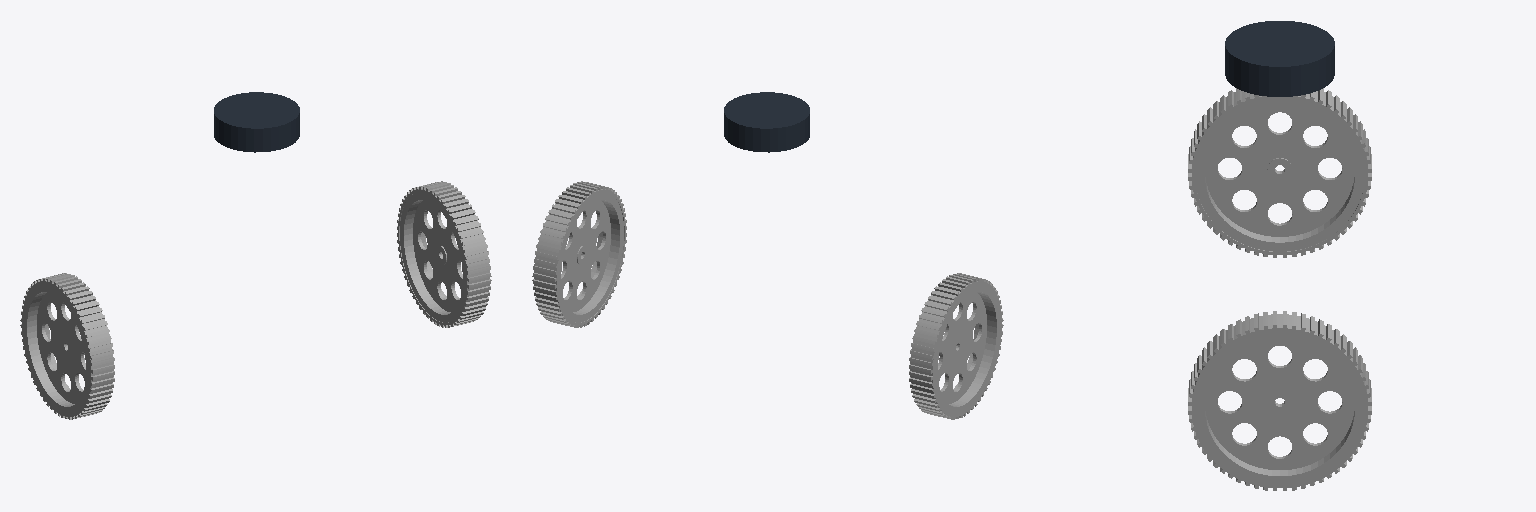
URDF robot description (tango):
<?xml version="1.0" encoding="utf-8"?>
<!-- =================================================================================== -->
<!-- |    This document was autogenerated by xacro from tango.xacro                    | -->
<!-- |    EDITING THIS FILE BY HAND IS NOT RECOMMENDED                                 | -->
<!-- =================================================================================== -->
<robot name="tango">
  <material name="silver">
    <color rgba="0.700 0.700 0.700 1.000"/>
  </material>
  <material name="black">
    <color rgba="0.0 0.0 0.0 1.0"/>
  </material>
  <material name="blue">
    <color rgba="0.203125 0.23828125 0.28515625 1.0"/>
  </material>
  <material name="green">
    <color rgba="0.0 0.8 0.0 1.0"/>
  </material>
  <material name="grey">
    <color rgba="0.2 0.2 0.2 1.0"/>
  </material>
  <material name="orange">
    <color rgba="1.0 0.423529411765 0.0392156862745 1.0"/>
  </material>
  <material name="brown">
    <color rgba="0.870588235294 0.811764705882 0.764705882353 1.0"/>
  </material>
  <material name="red">
    <color rgba="0.80078125 0.12890625 0.1328125 1.0"/>
  </material>
  <material name="white">
    <color rgba="1.0 1.0 1.0 1.0"/>
  </material>
  <transmission name="Rev15_tran">
    <type>transmission_interface/SimpleTransmission</type>
    <joint name="Rev15">
      <hardwareInterface>hardware_interface/EffortJointInterface</hardwareInterface>
    </joint>
    <actuator name="Rev15_actr">
      <hardwareInterface>hardware_interface/EffortJointInterface</hardwareInterface>
      <mechanicalReduction>1</mechanicalReduction>
    </actuator>
  </transmission>
  <transmission name="Rev16_tran">
    <type>transmission_interface/SimpleTransmission</type>
    <joint name="Rev16">
      <hardwareInterface>hardware_interface/EffortJointInterface</hardwareInterface>
    </joint>
    <actuator name="Rev16_actr">
      <hardwareInterface>hardware_interface/EffortJointInterface</hardwareInterface>
      <mechanicalReduction>1</mechanicalReduction>
    </actuator>
  </transmission>
  <gazebo>
    <plugin filename="libgazebo_ros_control.so" name="control"/>
  </gazebo>
  <gazebo>
    <plugin filename="libgazebo_ros_diff_drive.so" name="differential_drive_controller">
      <legacyMode>false</legacyMode>
      <alwaysOn>true</alwaysOn>
      <updateRate>20</updateRate>
      <leftJoint>Rev15</leftJoint>
      <rightJoint>Rev16</rightJoint>
      <wheelSeparation>0.325</wheelSeparation>
      <wheelDiameter>0.110</wheelDiameter>
      <wheelAcceleration>1.0</wheelAcceleration>
      <torque>0.127</torque>
      <commandTopic>cmd_vel</commandTopic>
      <odometryTopic>odom</odometryTopic>
      <odometryFrame>odom</odometryFrame>
      <robotBaseFrame>base_link</robotBaseFrame>
      <odometrySource>0</odometrySource>
      <publishWheelJointState>true</publishWheelJointState>
    </plugin>
  </gazebo>
  <!-- RpLidar A2 using CPU -->
  <gazebo reference="sensor_laser">
    <sensor name="head_rplidar_sensor" type="ray">
      <pose>0 0 0.06 0 0 0</pose>
      <visualize>false</visualize>
      <update_rate>40</update_rate>
      <ray>
        <scan>
          <horizontal>
            <samples>720</samples>
            <resolution>1</resolution>
            <min_angle>-3.14159265</min_angle>
            <max_angle>3.14159265</max_angle>
          </horizontal>
        </scan>
        <range>
          <min>0.2</min>
          <max>12.0</max>
          <resolution>0.01</resolution>
        </range>
        <noise>
          <type>gaussian</type>
          <mean>0.0</mean>
          <stddev>0.01</stddev>
        </noise>
      </ray>
      <plugin filename="libgazebo_ros_laser.so" name="gazebo_ros_head_rplidar_controller">
        <topicName>/tango/laser/scan</topicName>
        <frameName>sensor_laser</frameName>
      </plugin>
    </sensor>
  </gazebo>
  <gazebo reference="base_link">
    <material>Gazebo/Silver</material>
    <mu1>0.2</mu1>
    <mu2>0.2</mu2>
    <selfCollide>true</selfCollide>
    <gravity>true</gravity>
  </gazebo>
  <gazebo reference="wheel_left_1">
    <material>Gazebo/Silver</material>
    <mu1>0.2</mu1>
    <mu2>0.2</mu2>
    <selfCollide>true</selfCollide>
  </gazebo>
  <gazebo reference="wheel_right_1">
    <material>Gazebo/Silver</material>
    <mu1>0.2</mu1>
    <mu2>0.2</mu2>
    <selfCollide>true</selfCollide>
  </gazebo>
  <link name="dummy_link"/>
  <link name="base_link">
    <inertial>
      <origin rpy="0 0 0" xyz="0.00016953576698395381 -0.003784058871619607 0.04856680225483841"/>
      <mass value="0.9483275242628453"/>
      <inertia ixx="0.010174" ixy="-0.000103" ixz="-4.4e-05" iyy="0.009278" iyz="0.000222" izz="0.015459"/>
    </inertial>
    <visual>
      <origin rpy="0 0 0" xyz="0 0 0"/>
      <geometry>
        <mesh filename="package://tango_description/meshes/base_link.stl" scale="0.001 0.001 0.001"/>
      </geometry>
      <material name="silver"/>
    </visual>
    <collision>
      <origin rpy="0 0 0" xyz="0 0 0"/>
      <geometry>
        <mesh filename="package://tango_description/meshes/base_link.stl" scale="0.001 0.001 0.001"/>
      </geometry>
    </collision>
  </link>
  <link name="sensor_laser">
    <inertial>
      <origin rpy="0 0 0" xyz="0 0 0"/>
      <mass value="1"/>
      <inertia ixx="0.000305583333333" ixy="0" ixz="0" iyy="0.000305583333333" iyz="0" izz="0.0005445"/>
    </inertial>
    <visual>
      <origin rpy="0 0 0" xyz="0 0 0"/>
      <geometry>
        <cylinder length="0.02" radius="0.033"/>
      </geometry>
      <material name="blue"/>
    </visual>
    <collision>
      <origin rpy="0 0 0" xyz="0 0 0"/>
      <geometry>
        <cylinder length="0.02" radius="0.033"/>
      </geometry>
    </collision>
  </link>
  <link name="wheel_left_1">
    <inertial>
      <origin rpy="0 0 0" xyz="-0.16628589477289957 5.602462880330887e-14 -7.487718159456705e-16"/>
      <mass value="0.5462470782161397"/>
      <inertia ixx="0.001184" ixy="-0.0" ixz="0.0" iyy="0.000606" iyz="-0.0" izz="0.000606"/>
    </inertial>
    <visual>
      <origin rpy="0 0 0" xyz="-0.0 -0.0 0.0"/>
      <geometry>
        <mesh filename="package://tango_description/meshes/wheel_left_1.stl" scale="0.001 0.001 0.001"/>
      </geometry>
      <material name="silver"/>
    </visual>
    <collision>
      <origin rpy="0 0 0" xyz="-0.0 -0.0 0.0"/>
      <geometry>
        <mesh filename="package://tango_description/meshes/wheel_left_1.stl" scale="0.001 0.001 0.001"/>
      </geometry>
    </collision>
  </link>
  <link name="wheel_right_1">
    <inertial>
      <origin rpy="0 0 0" xyz="0.16473964498315097 1.3460578998617458e-14 5.271833050320694e-16"/>
      <mass value="0.546247078216141"/>
      <inertia ixx="0.001184" ixy="-0.0" ixz="0.0" iyy="0.000606" iyz="-0.0" izz="0.000606"/>
    </inertial>
    <visual>
      <origin rpy="0 0 0" xyz="-0.0 -0.0 0.0"/>
      <geometry>
        <mesh filename="package://tango_description/meshes/wheel_right_1.stl" scale="0.001 0.001 0.001"/>
      </geometry>
      <material name="silver"/>
    </visual>
    <collision>
      <origin rpy="0 0 0" xyz="-0.0 -0.0 0.0"/>
      <geometry>
        <mesh filename="package://tango_description/meshes/wheel_right_1.stl" scale="0.001 0.001 0.001"/>
      </geometry>
    </collision>
  </link>
  <joint name="dummy_joint" type="fixed">
    <parent link="dummy_link"/>
    <child link="base_link"/>
  </joint>
  <joint name="joint_sensor_laser" type="fixed">
    <origin rpy="0 0 0" xyz="0.0 0.0 0.1496"/>
    <parent link="base_link"/>
    <child link="sensor_laser"/>
  </joint>
  <joint name="Rev15" type="continuous">
    <origin rpy="0 0 0" xyz="0.0 0.0 0.0"/>
    <parent link="base_link"/>
    <child link="wheel_left_1"/>
    <axis xyz="-1.0 0.0 -0.0"/>
  </joint>
  <joint name="Rev16" type="continuous">
    <origin rpy="0 0 0" xyz="0.0 0.0 0.0"/>
    <parent link="base_link"/>
    <child link="wheel_right_1"/>
    <axis xyz="-1.0 -0.0 0.0"/>
  </joint>
</robot>

--- Render facts (derived) ---
Views: 3 orthographic renders of the robot side by side, from view 1: azimuth 30°, elevation 25°; view 2: azimuth 150°, elevation 25°; view 3: azimuth 270°, elevation 25°.
Model tango with 5 links and 4 joints (2 continuous, 2 fixed), rooted at dummy_link, posed all joints at 0.
Links seen in each view (by area): view 1: wheel_right_1, wheel_left_1, sensor_laser; view 2: wheel_left_1, wheel_right_1, sensor_laser; view 3: wheel_right_1, wheel_left_1, sensor_laser.
Boxes of the visible links, x1,y1,x2,y2 form: wheel_right_1: (397, 181, 491, 327); wheel_left_1: (20, 273, 114, 419); sensor_laser: (214, 92, 299, 152); wheel_left_1: (909, 273, 1003, 419); wheel_right_1: (532, 181, 626, 327); sensor_laser: (724, 92, 809, 152); wheel_right_1: (1188, 311, 1371, 490); wheel_left_1: (1188, 88, 1371, 257); sensor_laser: (1225, 21, 1334, 96).
Bounding box of the posed robot: 0.3508 × 0.11 × 0.2146 m (x, y, z).
2 mesh visuals loaded from 3 distinct referenced files (2 binary STL); not drawn: 1 (reference not matched to a file when rendering).
